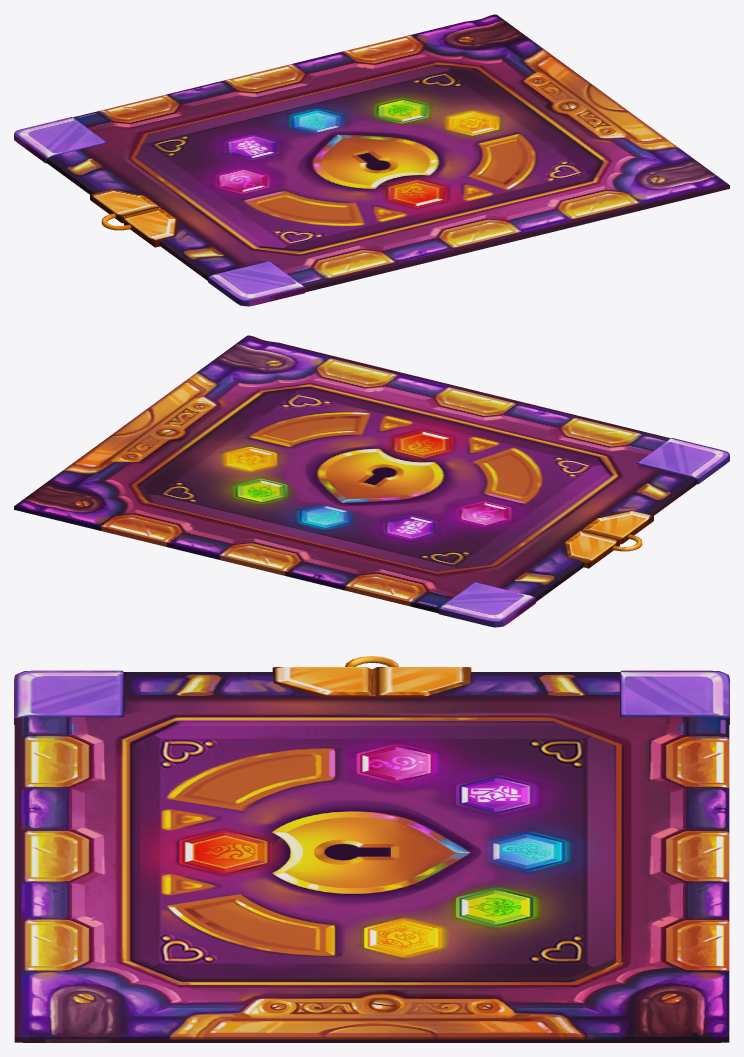
Rendered from CardBookCover.FBX.
The picture shows the model from 3 angles, top to bottom: view 1: azimuth 30°, elevation 25°; view 2: azimuth 150°, elevation 25°; view 3: azimuth 270°, elevation 25°; orthographic projection. The views are drawn at different scales.
Visible parts, largest first — view 1: Cover; view 2: Cover; view 3: Cover.
Boxes of the visible parts, bbox=[...] form: Cover: bbox=[14, 14, 729, 306]; Cover: bbox=[14, 335, 729, 627]; Cover: bbox=[14, 656, 729, 1042].
Size of the model in its own units: 1.82 by 0.0251 by 1.44.
